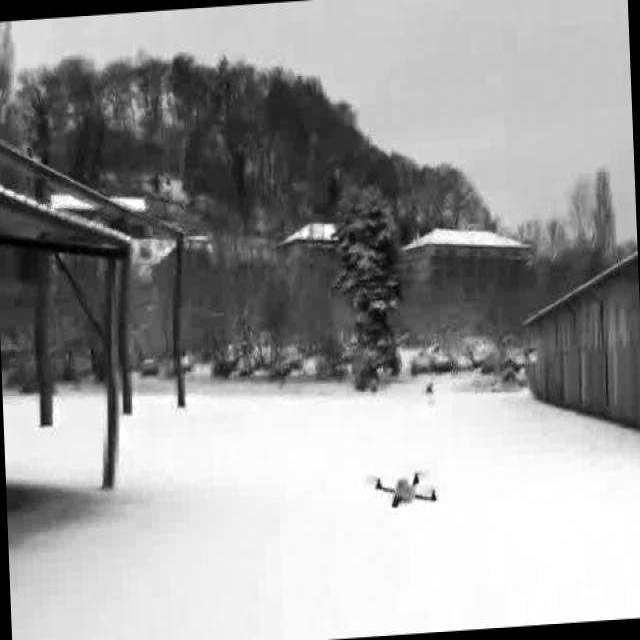drone: (354, 453, 460, 523)
